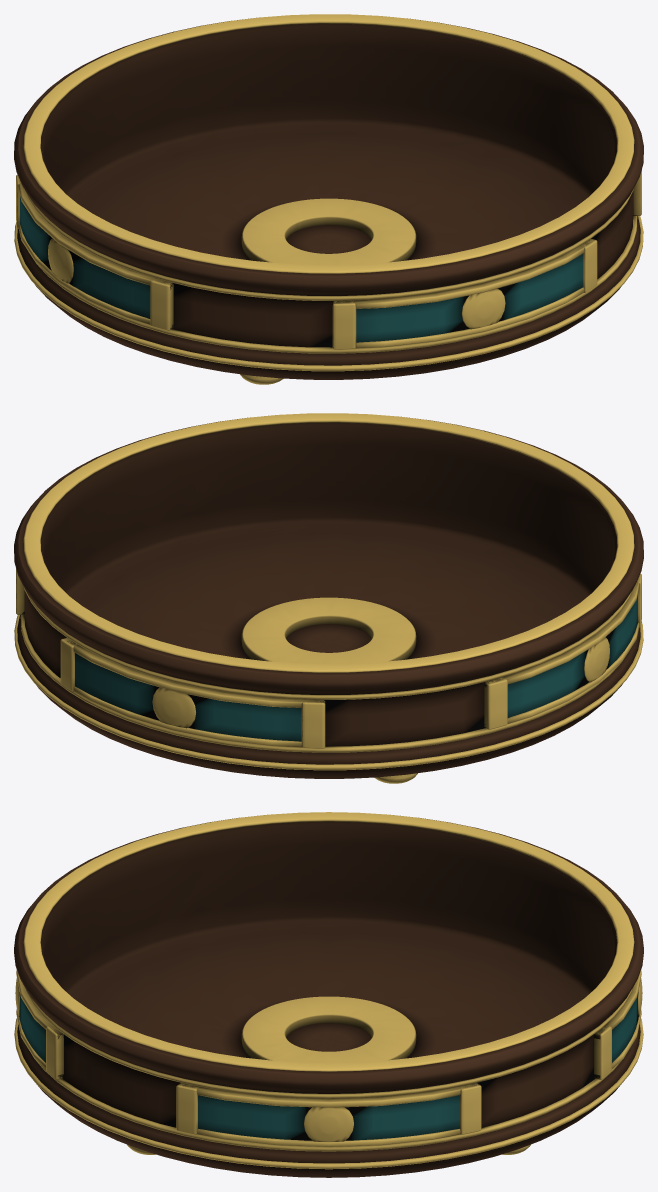
File: carousel_base.glb
The picture shows the model from 3 angles, top to bottom: view 1: azimuth 30°, elevation 25°; view 2: azimuth 150°, elevation 25°; view 3: azimuth 270°, elevation 25°; orthographic projection.
Parts seen in each view (by area): view 1: CarouselBase_Ring, CarouselBase_Panel; view 2: CarouselBase_Ring, CarouselBase_Panel; view 3: CarouselBase_Ring, CarouselBase_Panel.
Boxes of the visible parts, x1,y1,x2,y2 form: CarouselBase_Ring: (14, 14, 643, 379); CarouselBase_Panel: (16, 170, 641, 349); CarouselBase_Ring: (14, 413, 643, 778); CarouselBase_Panel: (16, 569, 641, 748); CarouselBase_Ring: (14, 812, 643, 1177); CarouselBase_Panel: (15, 970, 642, 1147).
Bounding box in the file's own units: 0.13 × 0.03 × 0.13.
